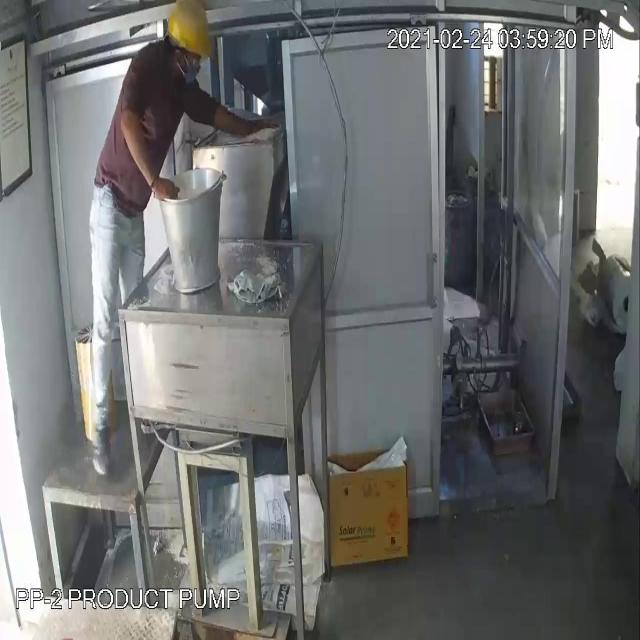helmet: (164, 4, 220, 66)
